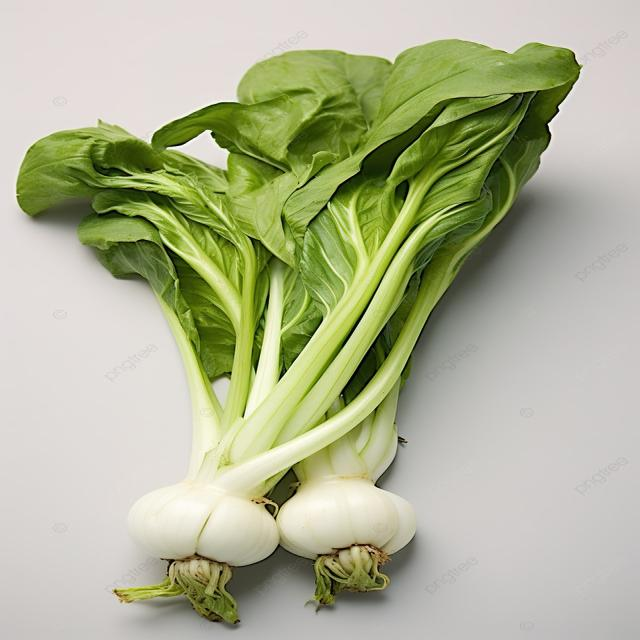bokchoy: (6, 38, 583, 466)
